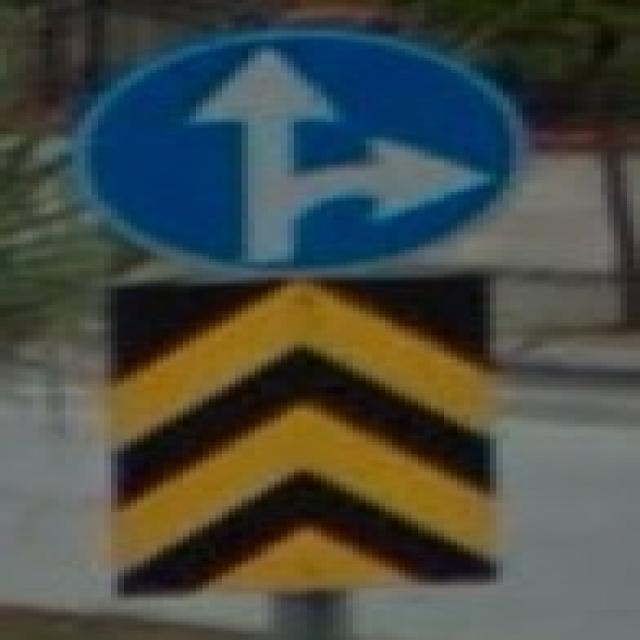Straight or Right: (83, 30, 514, 271)
